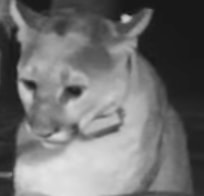Mountain Lion: (7, 3, 203, 194)
